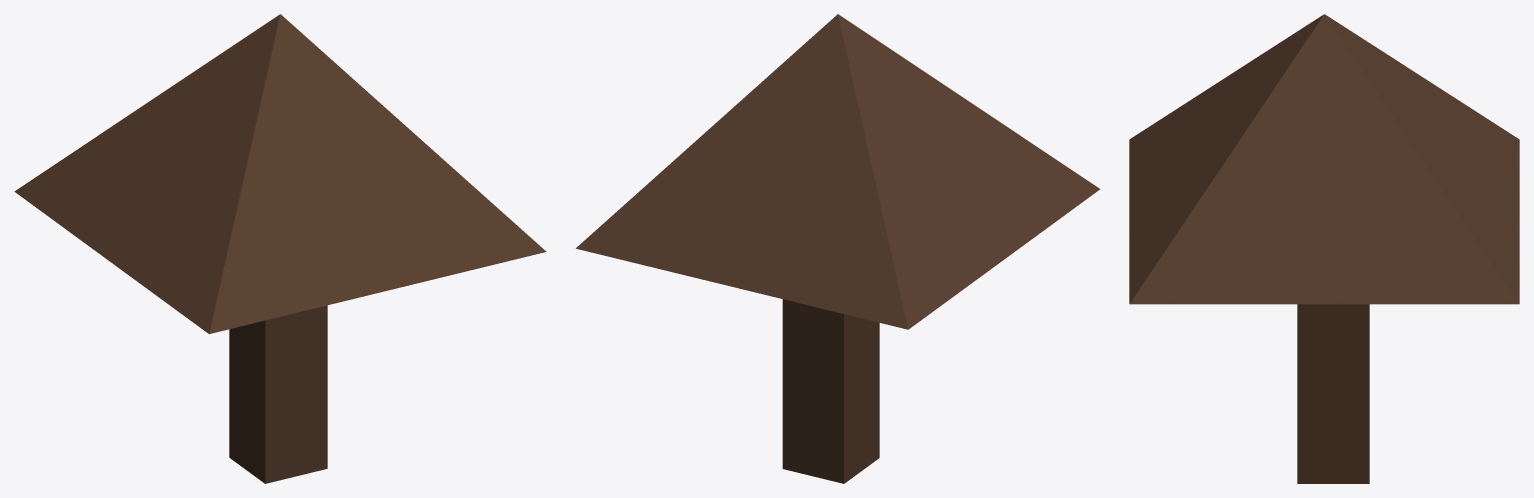
File: G10_header.fbx
3 renders of one model, left to right at view 1: azimuth 30°, elevation 25°; view 2: azimuth 150°, elevation 25°; view 3: azimuth 270°, elevation 25°, orthographic.
Parts seen in each view (by area): view 1: root (×2); view 2: root (×2); view 3: root (×2).
Boxes of the visible parts, x1,y1,x2,y2 form: root (×2): (14,14,546,483); root (×2): (576,14,1100,483); root (×2): (1129,14,1519,483).
Size of the model in its own units: 0.1989 by 0.2551 by 0.1989.
Materials: 2 (2 with a texture image).
